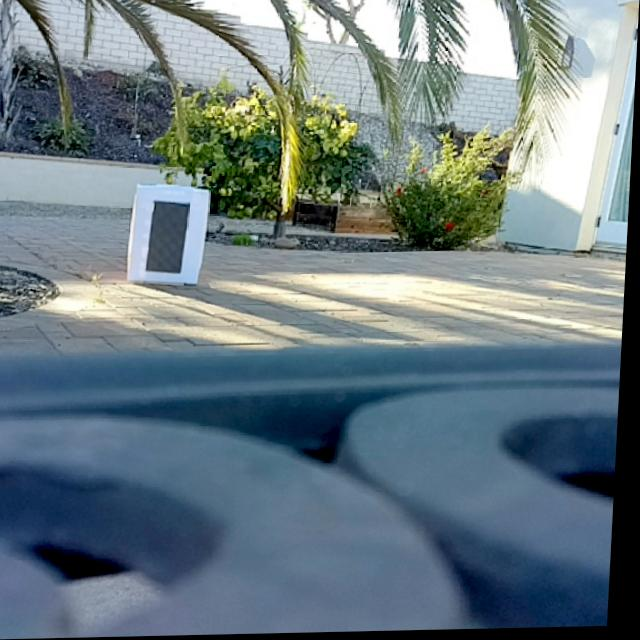led: (150, 200, 191, 276)
